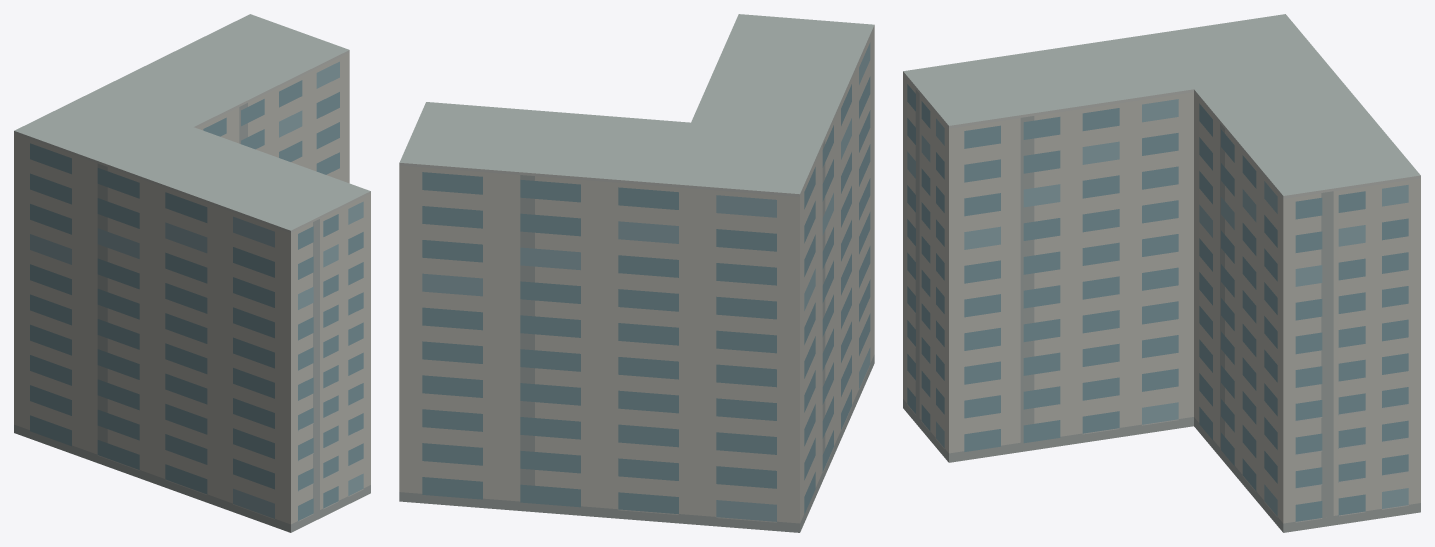
The model's file is residential-61794b10-f209-44f2-88a3-dc8140936936.glb.
The picture shows the model from 3 angles, left to right: view 1: azimuth 30°, elevation 25°; view 2: azimuth 150°, elevation 25°; view 3: azimuth 270°, elevation 25°; orthographic projection. The views are drawn at different scales.
Visible parts, largest first — view 1: residential-61794b10-f209-44f2-88a3-dc8140936936.tmp; view 2: residential-61794b10-f209-44f2-88a3-dc8140936936.tmp; view 3: residential-61794b10-f209-44f2-88a3-dc8140936936.tmp.
Boxes of the visible parts, bbox=[...] form: residential-61794b10-f209-44f2-88a3-dc8140936936.tmp: bbox=[14, 14, 370, 532]; residential-61794b10-f209-44f2-88a3-dc8140936936.tmp: bbox=[399, 14, 874, 532]; residential-61794b10-f209-44f2-88a3-dc8140936936.tmp: bbox=[903, 14, 1420, 532].
Bounding box in the file's own units: 35.35 × 30.5 × 42.49.
